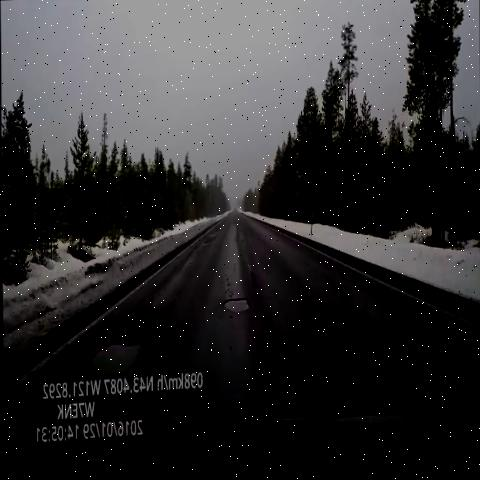pothole: (82, 317, 153, 395), (217, 291, 257, 330)
